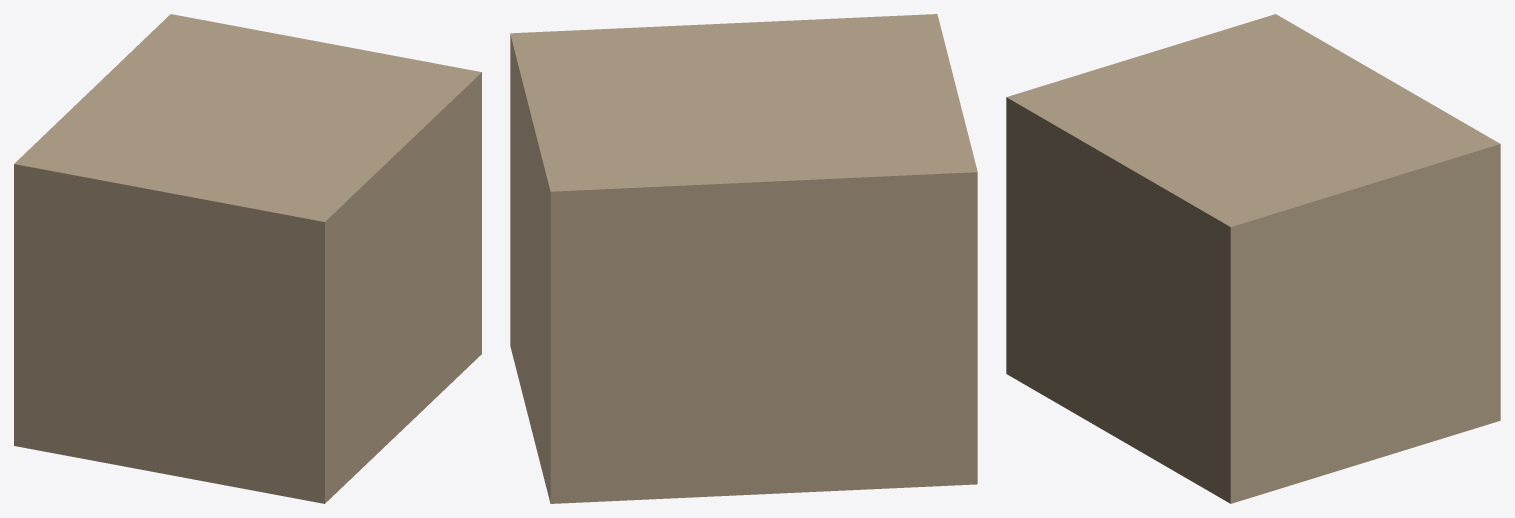
Rendered from bld_55879651.dae.
3 views of the same model, side by side, from view 1: azimuth 30°, elevation 25°; view 2: azimuth 150°, elevation 25°; view 3: azimuth 270°, elevation 25° (orthographic). The views are drawn at different scales.
Visible parts, largest first — view 1: bld_55879651; view 2: bld_55879651; view 3: bld_55879651.
Part boxes in pixels (x1,y1,x2,y2): bld_55879651: [14, 14, 481, 503]; bld_55879651: [510, 14, 977, 503]; bld_55879651: [1006, 14, 1500, 503].
Size of the model in its own units: 13.22 by 12.95 by 8.
